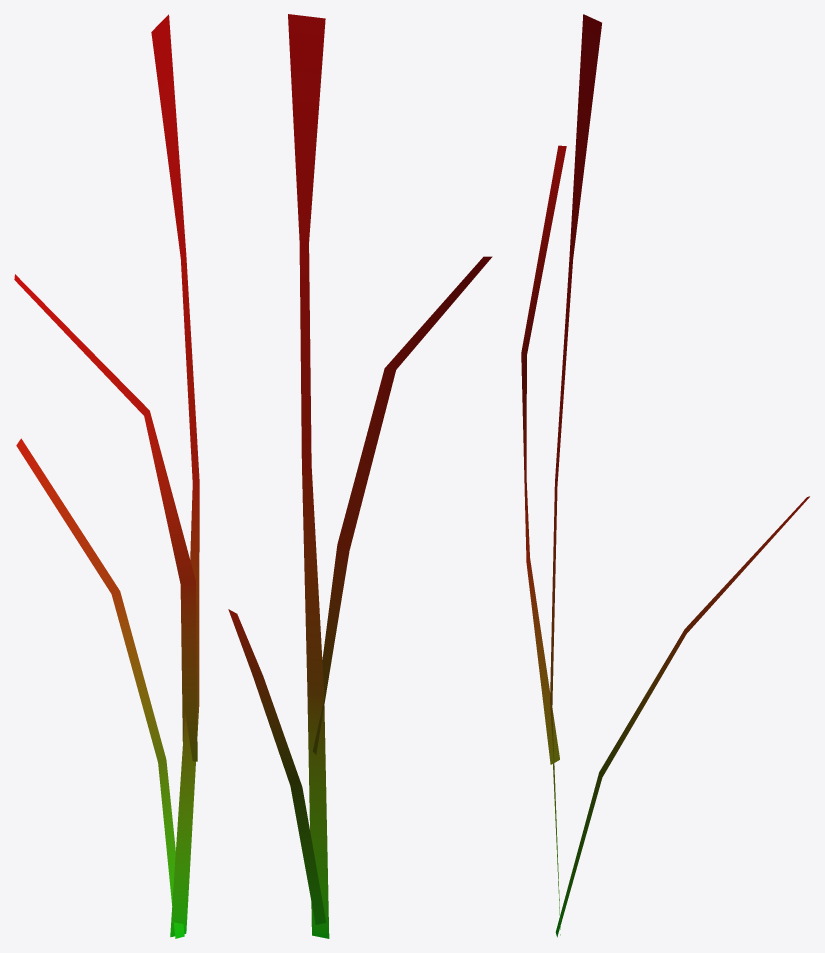
The model's file is Tundra Grass_LOD3_Var16_wk2oaeyqx.fbx.
The picture shows the model from 3 angles, left to right: view 1: azimuth 30°, elevation 25°; view 2: azimuth 150°, elevation 25°; view 3: azimuth 270°, elevation 25°; orthographic projection. The views are drawn at different scales.
Visible parts, largest first — view 1: _chcr_Var16_LOD3; view 2: _chcr_Var16_LOD3; view 3: _chcr_Var16_LOD3.
Part boxes in pixels (bbox=[...]): _chcr_Var16_LOD3: bbox=[14, 14, 199, 938]; _chcr_Var16_LOD3: bbox=[228, 14, 492, 938]; _chcr_Var16_LOD3: bbox=[521, 14, 809, 937].
Bounding box in the file's own units: 4.2 × 19.66 × 5.62.
